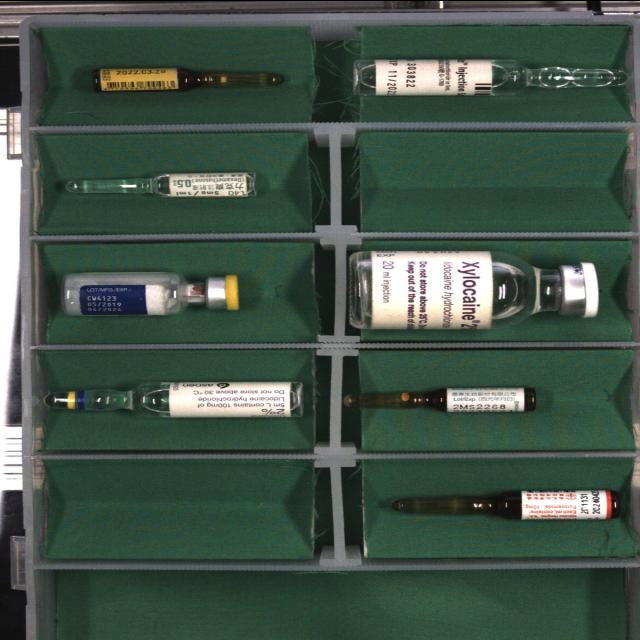Vials: (350, 249, 598, 328), (63, 271, 239, 314)
